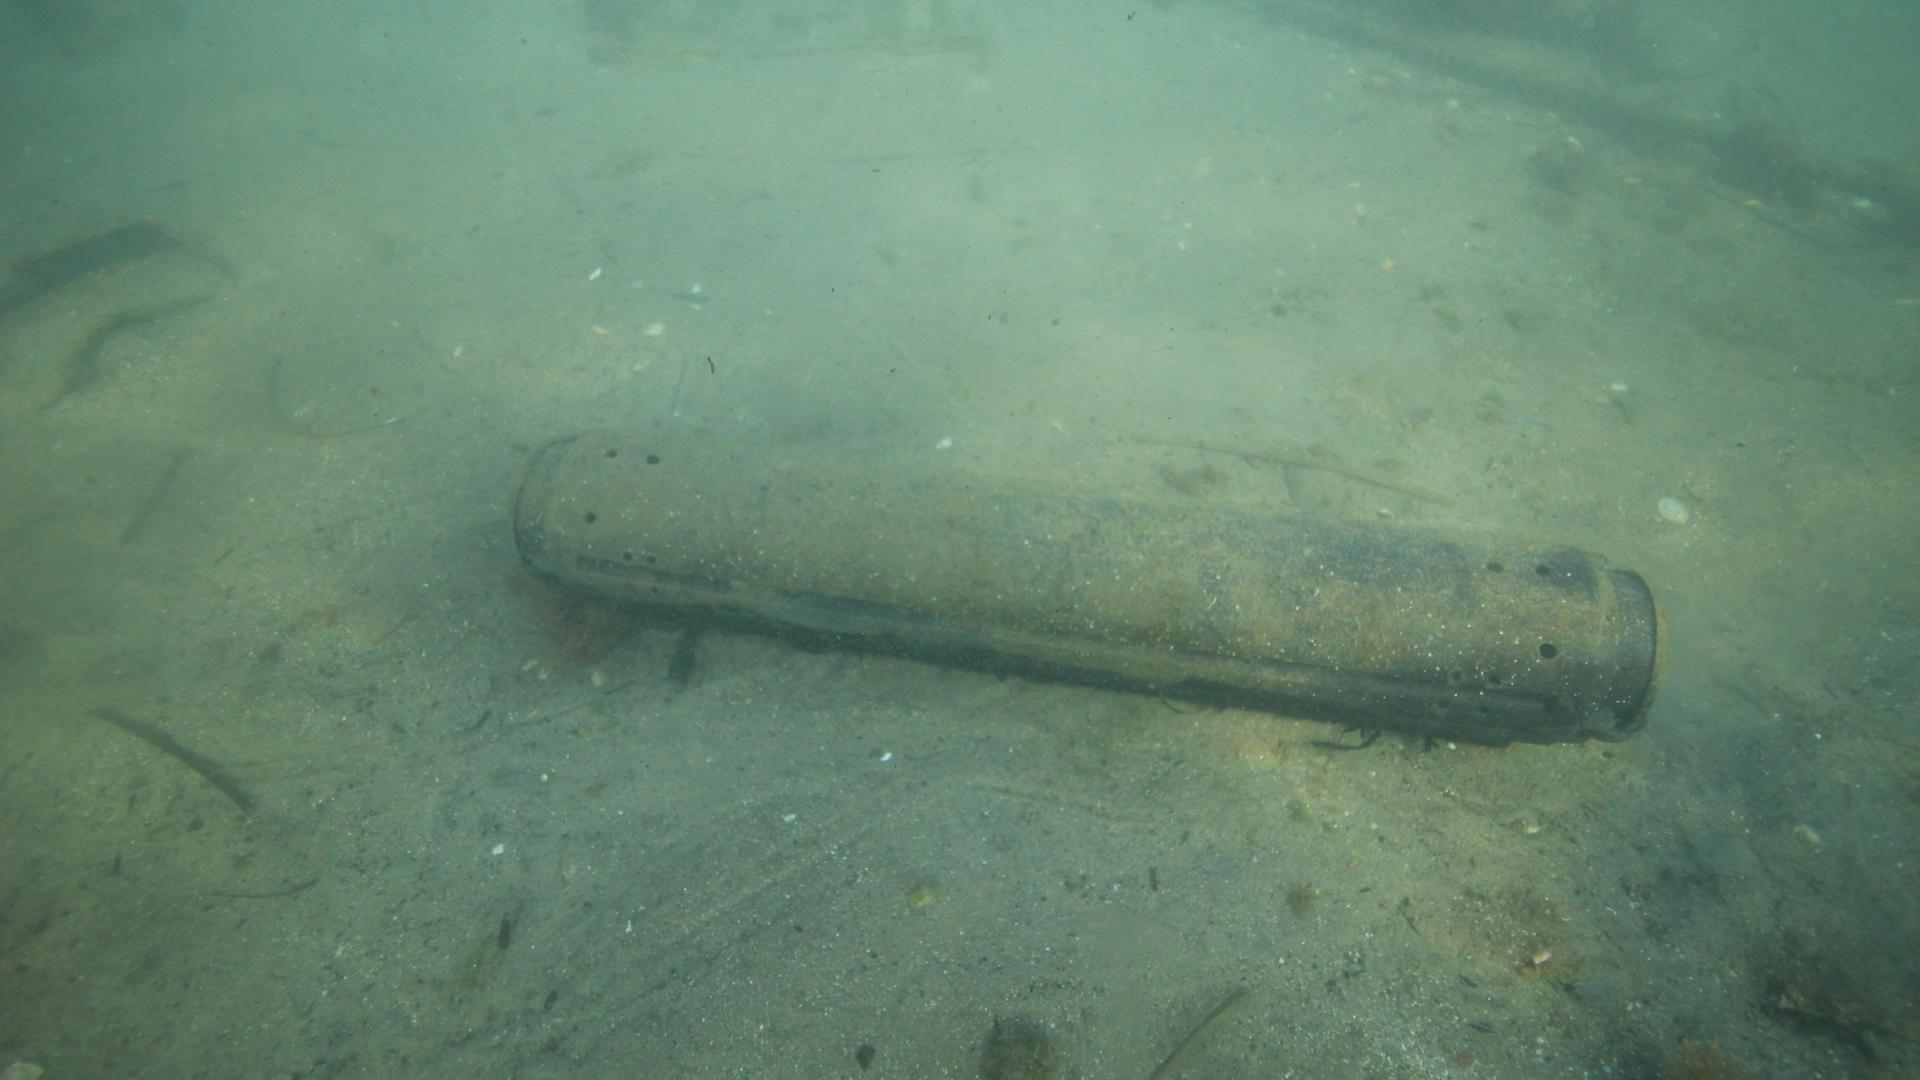eel fish trap: (513, 425, 1662, 746)
